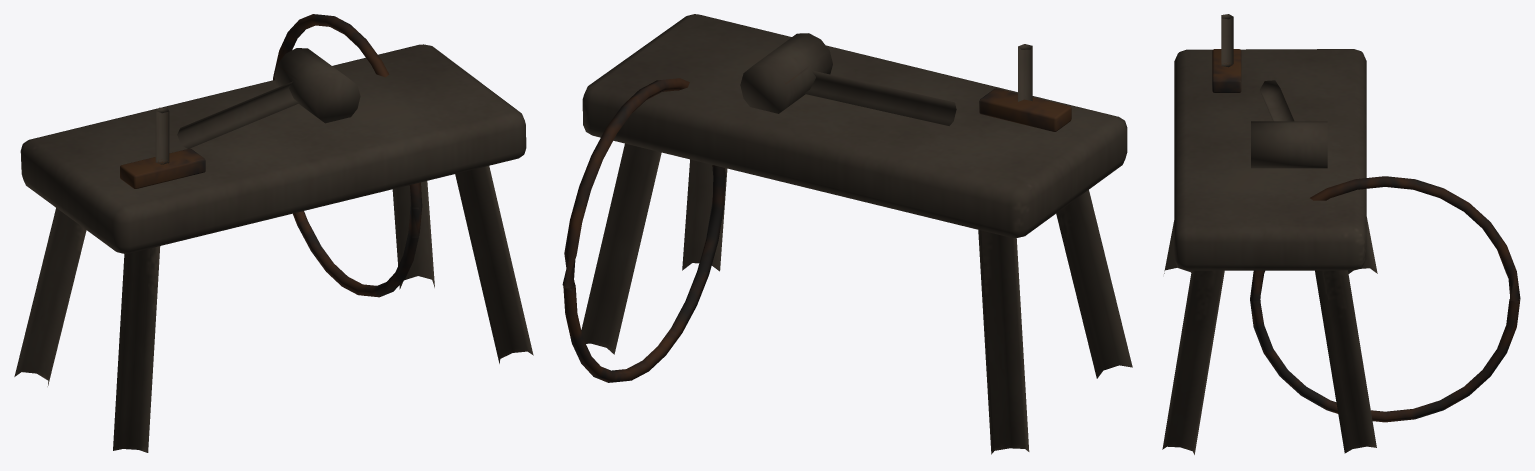
File: cooper_bench.obj
3 renders of one model, left to right at view 1: azimuth 30°, elevation 25°; view 2: azimuth 150°, elevation 25°; view 3: azimuth 270°, elevation 25°, orthographic. The views are drawn at different scales.
Visible parts, largest first — view 1: part0, part2, part1; view 2: part0, part2, part1; view 3: part0, part2, part1.
Boxes of the visible parts, bbox=[...] form: part0: bbox=[14, 44, 533, 452]; part2: bbox=[273, 14, 422, 297]; part1: bbox=[120, 148, 205, 188]; part0: bbox=[581, 14, 1132, 454]; part2: bbox=[562, 78, 725, 382]; part1: bbox=[979, 88, 1071, 131]; part0: bbox=[1162, 14, 1377, 454]; part2: bbox=[1250, 176, 1520, 422]; part1: bbox=[1212, 49, 1241, 92].
Bounding box in the file's own units: 0.9286 × 0.6675 × 0.7463.
